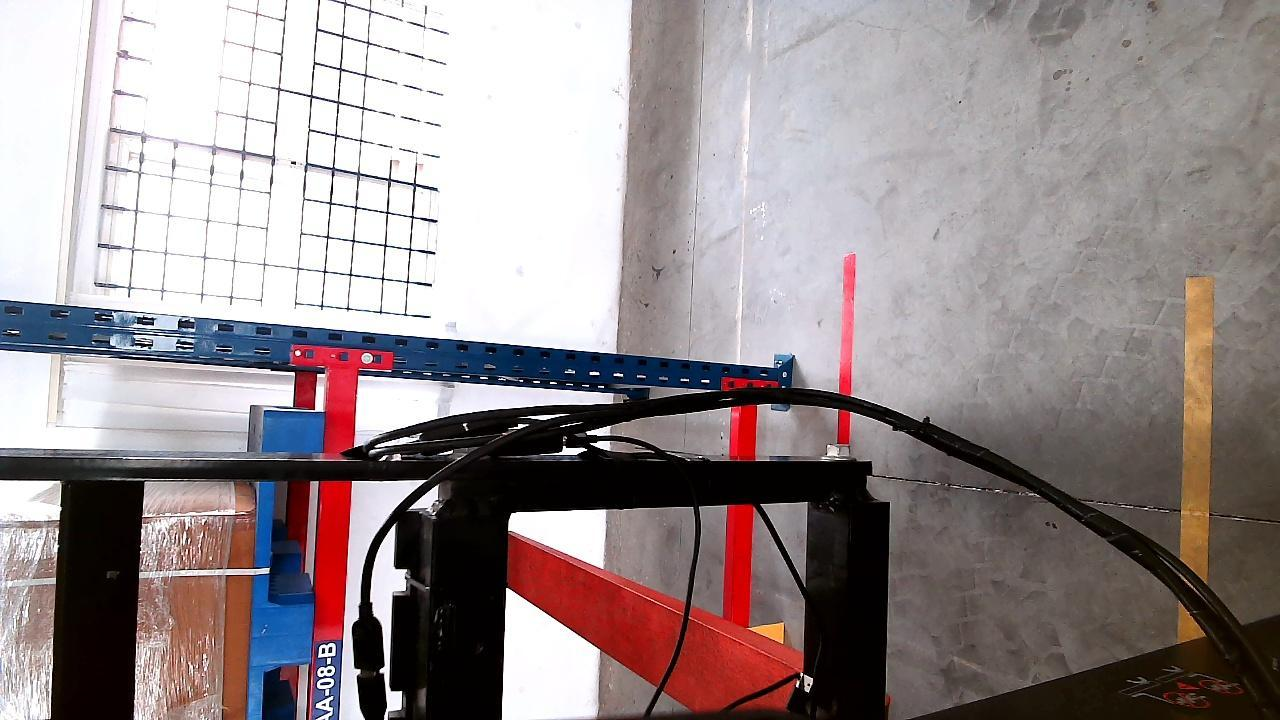red_line: (834, 252, 857, 445)
yellow_line: (1181, 265, 1214, 603)
